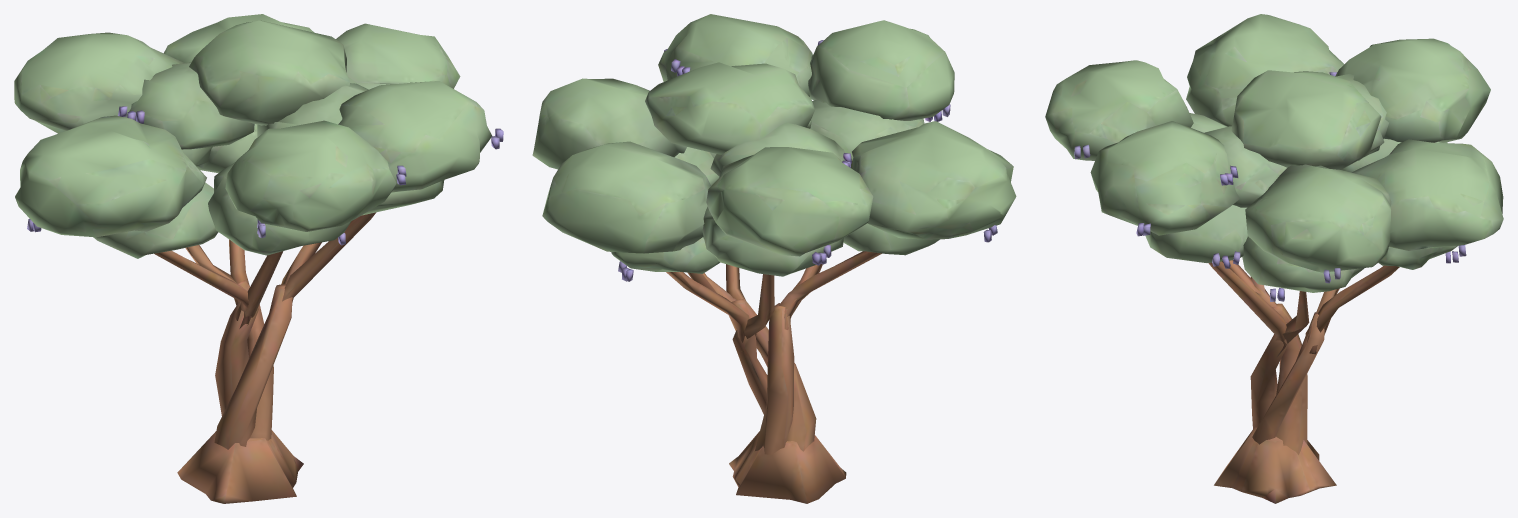
Rendered from olive-tree.glb.
The picture shows the model from 3 angles, left to right: view 1: azimuth 30°, elevation 25°; view 2: azimuth 150°, elevation 25°; view 3: azimuth 270°, elevation 25°; orthographic projection. The views are drawn at different scales.
Visible parts, largest first — view 1: olive-tree_body; view 2: olive-tree_body; view 3: olive-tree_body.
Boxes of the visible parts, <box> form: olive-tree_body: <box>14,14,503,503</box>; olive-tree_body: <box>532,14,1016,503</box>; olive-tree_body: <box>1045,14,1503,503</box>.
Bounding box in the file's own units: 4.31 × 3.85 × 3.9.
1 material, 1 textured.
